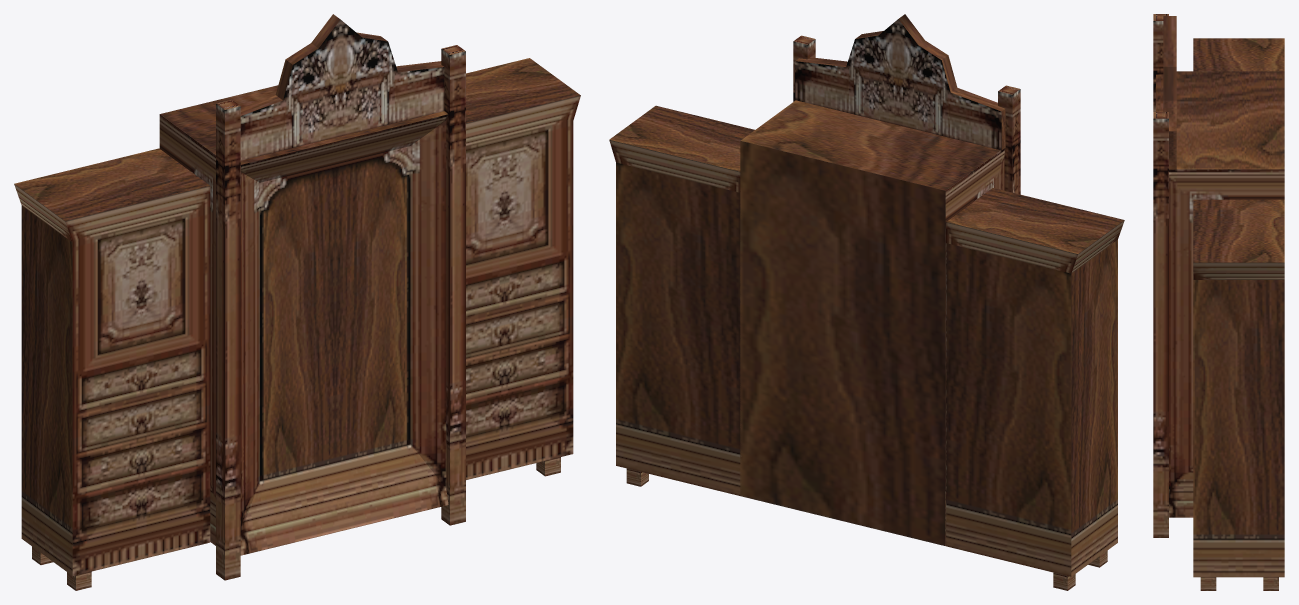
The model's file is Dressr02.glb.
3 views of the same model, side by side, from view 1: azimuth 30°, elevation 25°; view 2: azimuth 150°, elevation 25°; view 3: azimuth 270°, elevation 25° (orthographic). The views are drawn at different scales.
Parts seen in each view (by area): view 1: _Dressr02; view 2: _Dressr02; view 3: _Dressr02.
Part boxes in pixels (x1,y1,x2,y2): _Dressr02: (14,14,580,590); _Dressr02: (609,14,1124,590); _Dressr02: (1153,14,1284,590).
Size of the model in its own units: 3.77 by 3.69 by 0.9347.
Materials: 1 (1 with a texture image).
